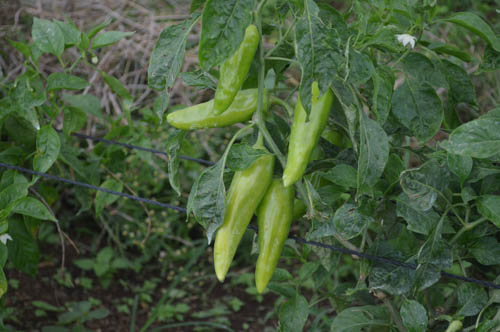ChiliPepper: (212, 144, 275, 297), (281, 65, 334, 197), (252, 179, 296, 297), (166, 82, 265, 132), (211, 26, 265, 117)
